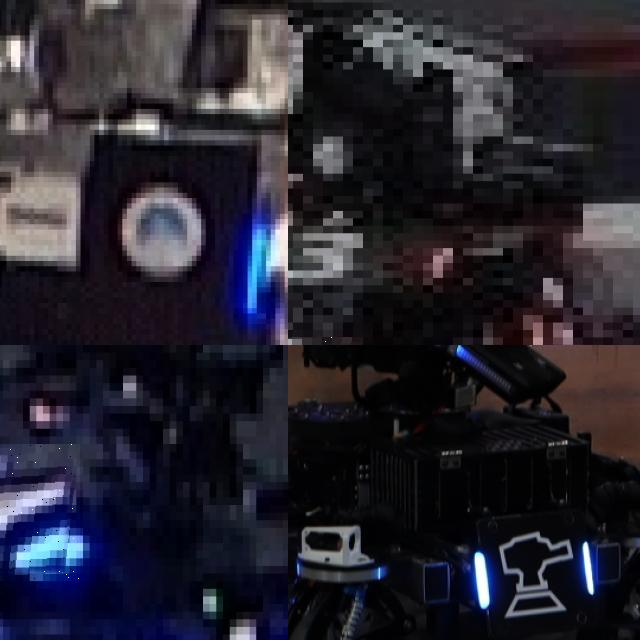B4: (0, 444, 79, 581), (129, 600, 288, 640)
Bs: (475, 523, 594, 619)
R3: (288, 218, 453, 285)
